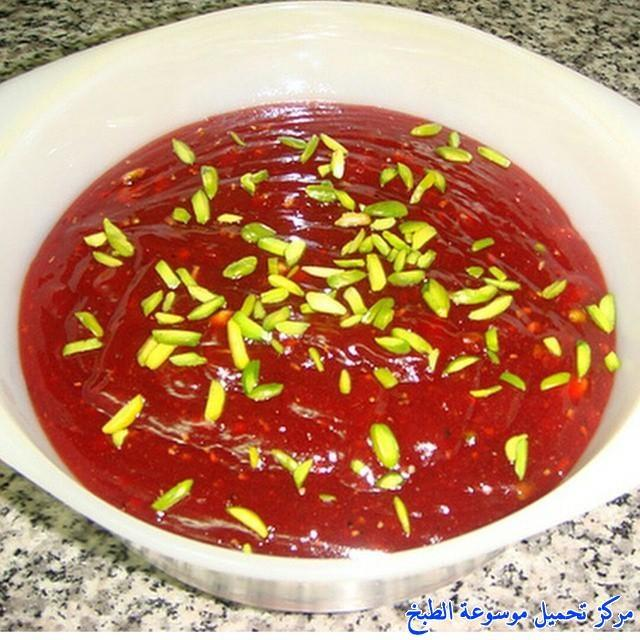Halwa: (17, 91, 622, 561)
